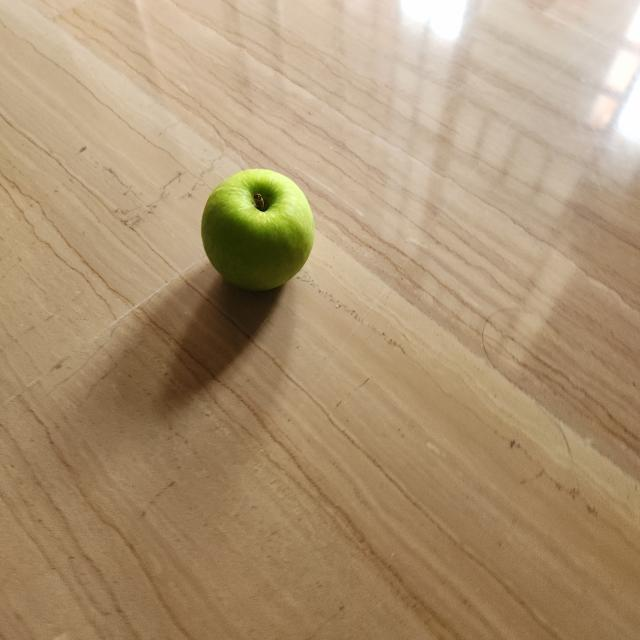apple: (192, 162, 328, 302)
